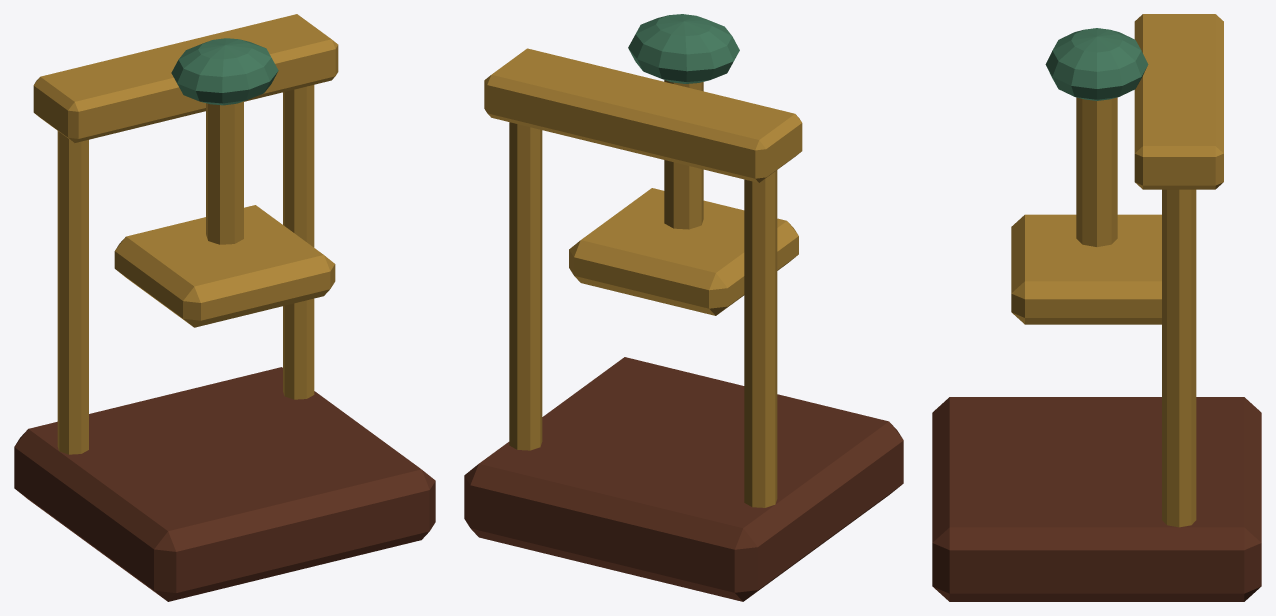
The model's file is stamp.glb.
The picture shows the model from 3 angles, left to right: view 1: azimuth 30°, elevation 25°; view 2: azimuth 150°, elevation 25°; view 3: azimuth 270°, elevation 25°; orthographic projection. The views are drawn at different scales.
Parts seen in each view (by area): view 1: Body_mesh, Press_mesh; view 2: Body_mesh, Press_mesh; view 3: Body_mesh, Press_mesh.
Part boxes in pixels (x1,y1,x2,y2): Body_mesh: [14, 14, 435, 601]; Press_mesh: [114, 38, 335, 327]; Body_mesh: [464, 48, 903, 601]; Press_mesh: [569, 14, 798, 315]; Body_mesh: [932, 14, 1261, 601]; Press_mesh: [1011, 28, 1161, 324].
Bounding box in the file's own units: 0.5 × 0.805 × 0.48.
